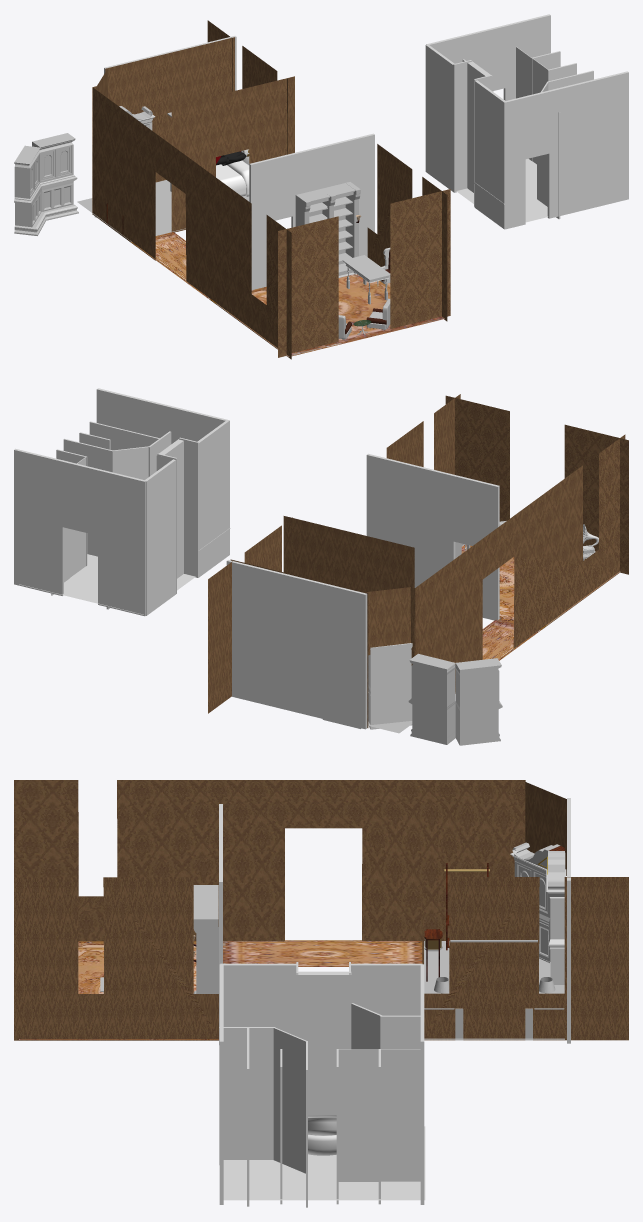
Rendered from clean_deadroom.fbx.
3 renders of one model, top to bottom at view 1: azimuth 30°, elevation 25°; view 2: azimuth 150°, elevation 25°; view 3: azimuth 270°, elevation 25°, orthographic. The views are drawn at different scales.
Visible parts, largest first — view 1: Cube.715, Cube.005, Cube.934, Cube.734, Cube.699, Cube.716, Cube.927, Cube.732, Cube.935, Cube.932, Plane.105, Plane.108 (+11 smaller); view 2: Cube.715, Cube.680, Cube.732, Cube.699, Cube.934, Cube.716, Cube.734, Cube.717, Cube.005, Plane.111, Plane.108, Cube.006 (+12 smaller); view 3: Cube.715, Cube.935, Cube.717, Cube.716, Cube.731, Cube.723, Plane.104, Cube.728, Cube.726, Plane.000, Cube.733, Cube.932 (+13 smaller).
Boxes of the visible parts, <box> form: Cube.715: <box>92,88,291,359</box>; Cube.005: <box>505,71,628,229</box>; Cube.934: <box>278,189,450,357</box>; Cube.734: <box>171,76,294,232</box>; Cube.699: <box>249,133,374,289</box>; Cube.716: <box>425,44,506,229</box>; Cube.927: <box>105,37,234,182</box>; Cube.732: <box>426,14,550,100</box>; Cube.935: <box>367,144,447,321</box>; Cube.932: <box>295,182,360,277</box>; Plane.105: <box>211,274,444,356</box>; Plane.108: <box>32,133,78,220</box>; Cube.715: <box>414,434,625,693</box>; Cube.680: <box>226,560,367,729</box>; Cube.732: <box>14,448,145,616</box>; Cube.699: <box>366,453,499,620</box>; Cube.934: <box>445,395,628,574</box>; Cube.716: <box>145,420,229,615</box>; Cube.734: <box>283,516,414,592</box>; Cube.717: <box>208,517,292,713</box>; Cube.005: <box>96,388,228,443</box>; Plane.111: <box>455,658,502,745</box>; Plane.108: <box>408,653,455,744</box>; Cube.006: <box>368,643,412,729</box>; Cube.715: <box>14,780,525,941</box>; Cube.935: <box>14,877,218,1040</box>; Cube.717: <box>422,877,628,1040</box>; Cube.716: <box>220,963,422,1035</box>; Cube.731: <box>219,1027,275,1164</box>; Cube.723: <box>296,971,351,1115</box>; Plane.104: <box>223,1126,425,1200</box>; Cube.728: <box>337,1049,378,1181</box>; Cube.726: <box>380,1049,420,1181</box>; Plane.000: <box>223,940,422,966</box>; Cube.733: <box>273,1027,306,1173</box>; Cube.932: <box>193,885,218,993</box>.
Size of the model in its own units: 1150 by 289 by 956.
